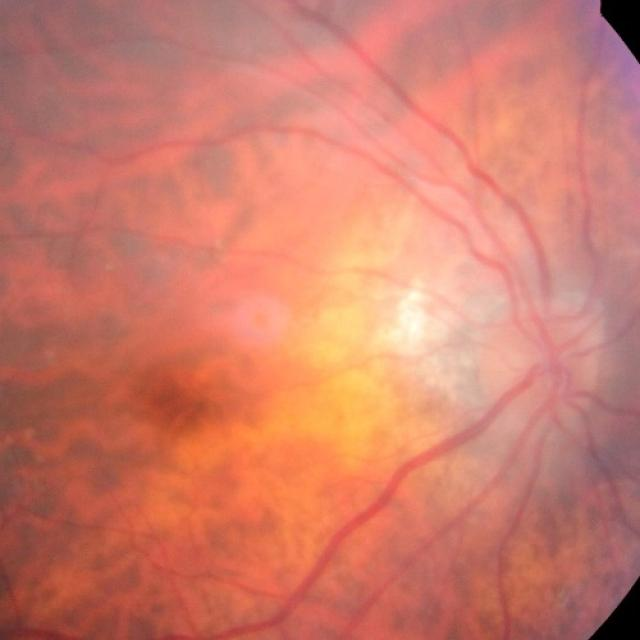OC: (533, 339, 574, 394)
OD: (487, 323, 600, 433)
